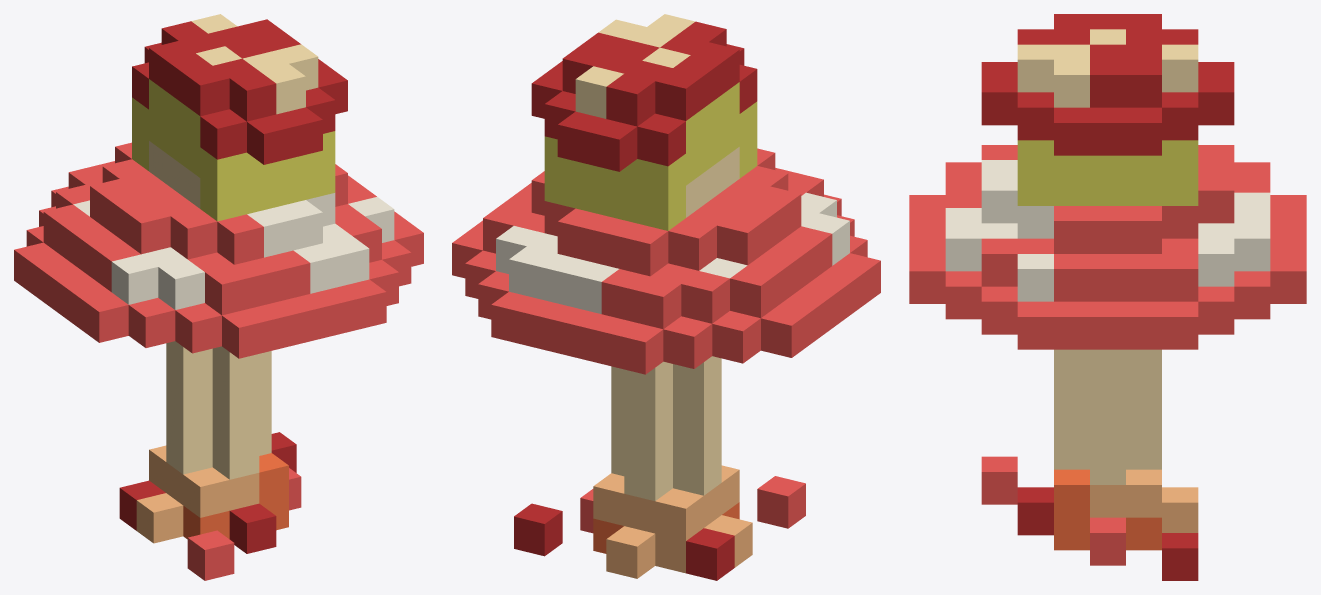
The model's file is Aerea.fbx.
The picture shows the model from 3 angles, left to right: view 1: azimuth 30°, elevation 25°; view 2: azimuth 150°, elevation 25°; view 3: azimuth 270°, elevation 25°; orthographic projection. The views are drawn at different scales.
Visible parts, largest first — view 1: Aerea; view 2: Aerea; view 3: Aerea.
Part boxes in pixels (bbox=[...]): Aerea: bbox=[14, 14, 423, 580]; Aerea: bbox=[452, 14, 880, 580]; Aerea: bbox=[909, 14, 1306, 580].
Size of the model in its own units: 110 by 150 by 110.
